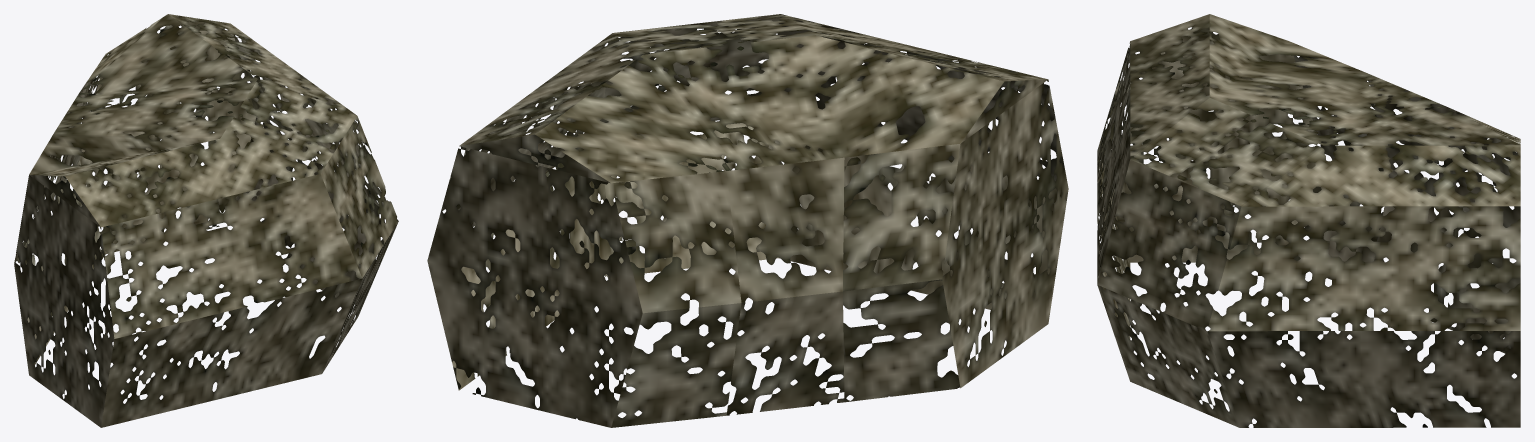
File: bush_round_corner_filled_dead.fbx
3 views of the same model, side by side, from view 1: azimuth 30°, elevation 25°; view 2: azimuth 150°, elevation 25°; view 3: azimuth 270°, elevation 25° (orthographic). The views are drawn at different scales.
Visible parts, largest first — view 1: bush_round_corner_filled_dead; view 2: bush_round_corner_filled_dead; view 3: bush_round_corner_filled_dead.
Boxes of the visible parts, x1,y1,x2,y2 form: bush_round_corner_filled_dead: [14, 14, 398, 427]; bush_round_corner_filled_dead: [427, 14, 1068, 427]; bush_round_corner_filled_dead: [1097, 14, 1520, 427].
Bounding box in the file's own units: 136 × 87.65 × 135.
Materials: 1 (1 with a texture image).
